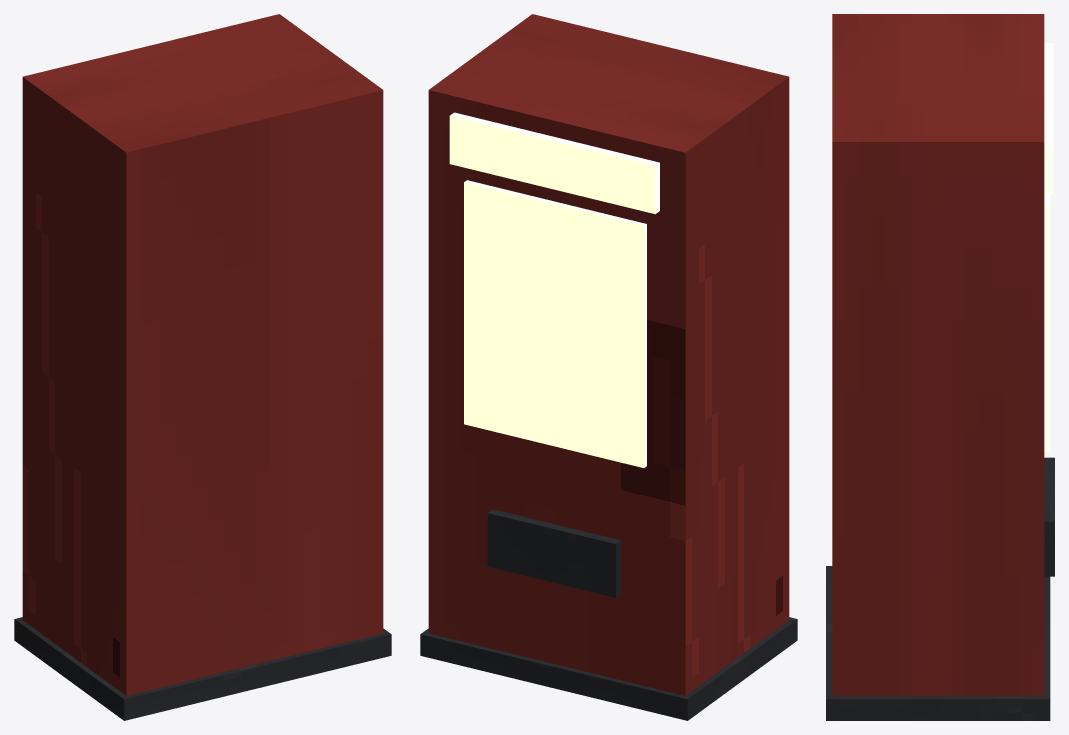
Rendered from perk_machine.glb.
The picture shows the model from 3 angles, left to right: view 1: azimuth 30°, elevation 25°; view 2: azimuth 150°, elevation 25°; view 3: azimuth 270°, elevation 25°; orthographic projection. The views are drawn at different scales.
Parts seen in each view (by area): view 1: PerkMachine; view 2: PerkMachine; view 3: PerkMachine.
Boxes of the visible parts, left/top/right/bottom form: PerkMachine: left=14, top=14, right=391, bottom=720; PerkMachine: left=420, top=14, right=797, bottom=720; PerkMachine: left=826, top=14, right=1054, bottom=720.
Size of the model in its own units: 1.04 by 2.1 by 0.755.
3 materials, 2 textured.
